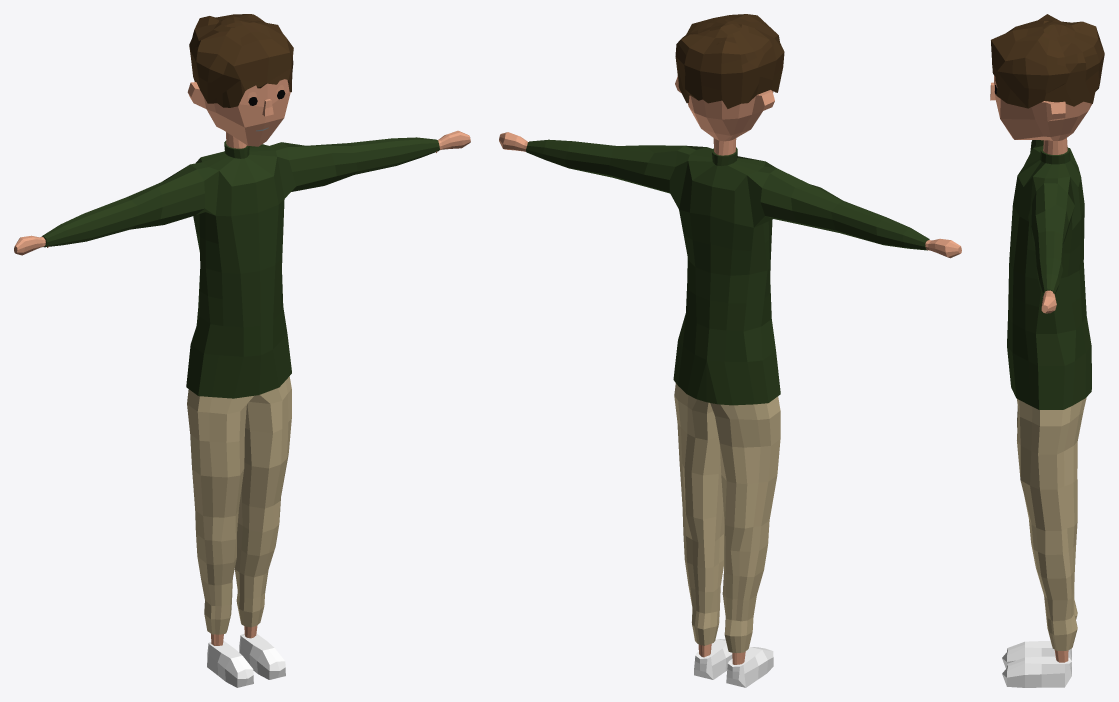
The model's file is npcmale1.fbx.
3 views of the same model, side by side, from view 1: azimuth 30°, elevation 25°; view 2: azimuth 150°, elevation 25°; view 3: azimuth 270°, elevation 25° (orthographic).
Parts seen in each view (by area): view 1: Cube.014; view 2: Cube.014; view 3: Cube.014.
Boxes of the visible parts, x1,y1,x2,y2 form: Cube.014: [14, 14, 470, 687]; Cube.014: [499, 14, 961, 687]; Cube.014: [990, 14, 1104, 687].
Size of the model in its own units: 127 by 172 by 27.49.
